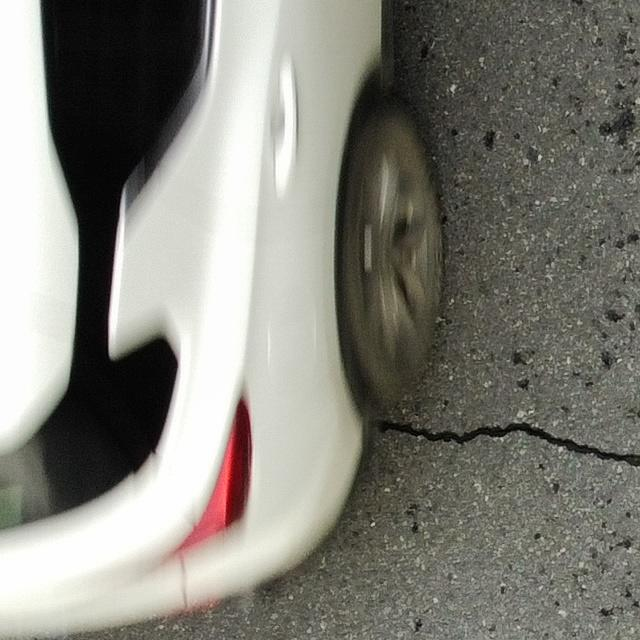TransverseCrack: (373, 415, 640, 465)
